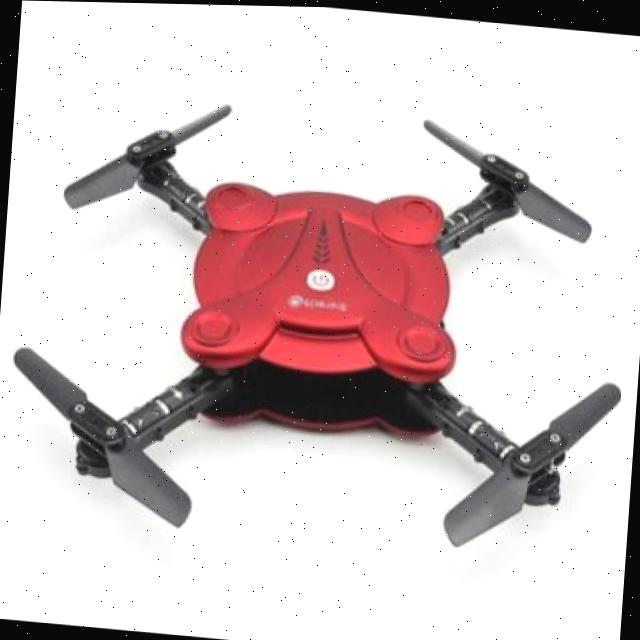drone: (12, 88, 640, 566)
